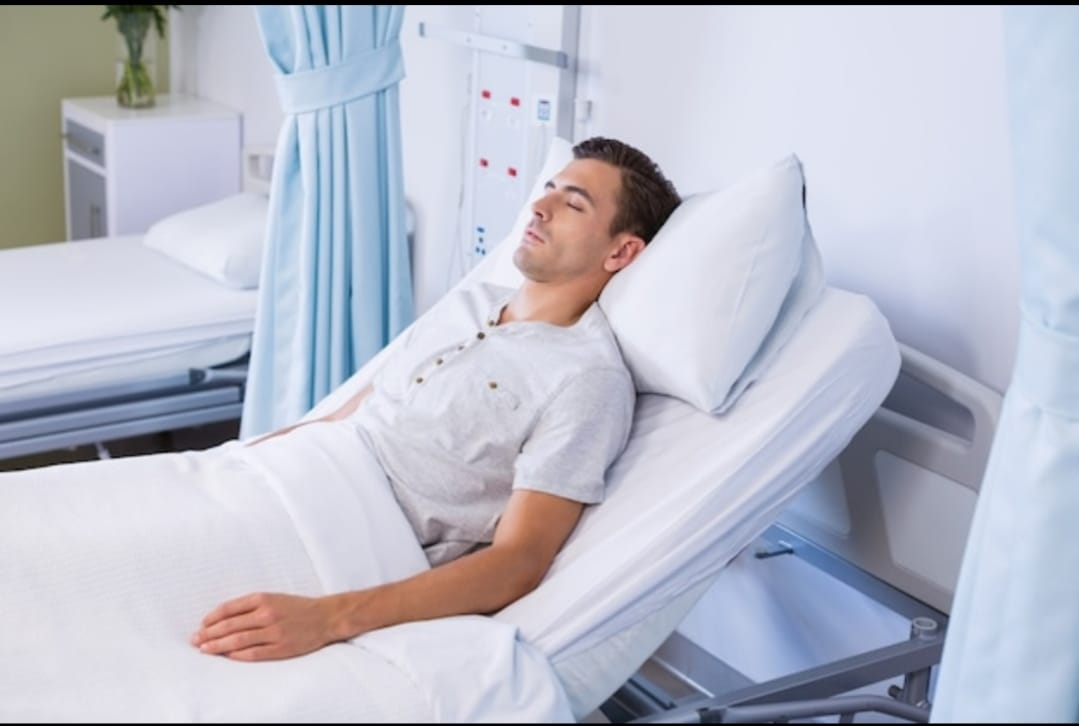sleeping: (70, 112, 683, 726)
